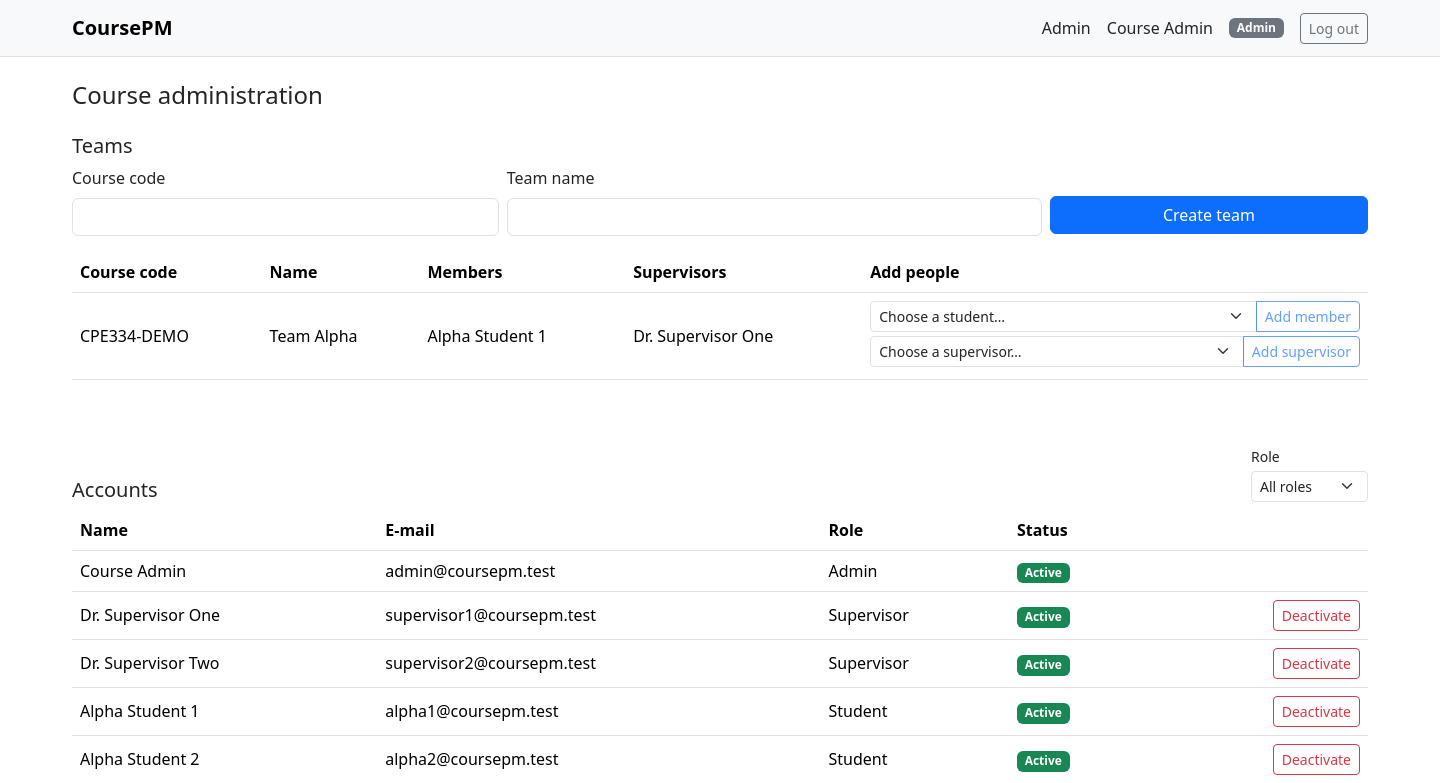
Test: TEST-UI-09 (AC-09-11): Teams section › New team: a 201 adds the team to the table and clears the form
Step 1. Type "CPE334-DEMO" into the field labelled "Course code" → {"x": 285, "y": 217}, box [72,198,499,236]
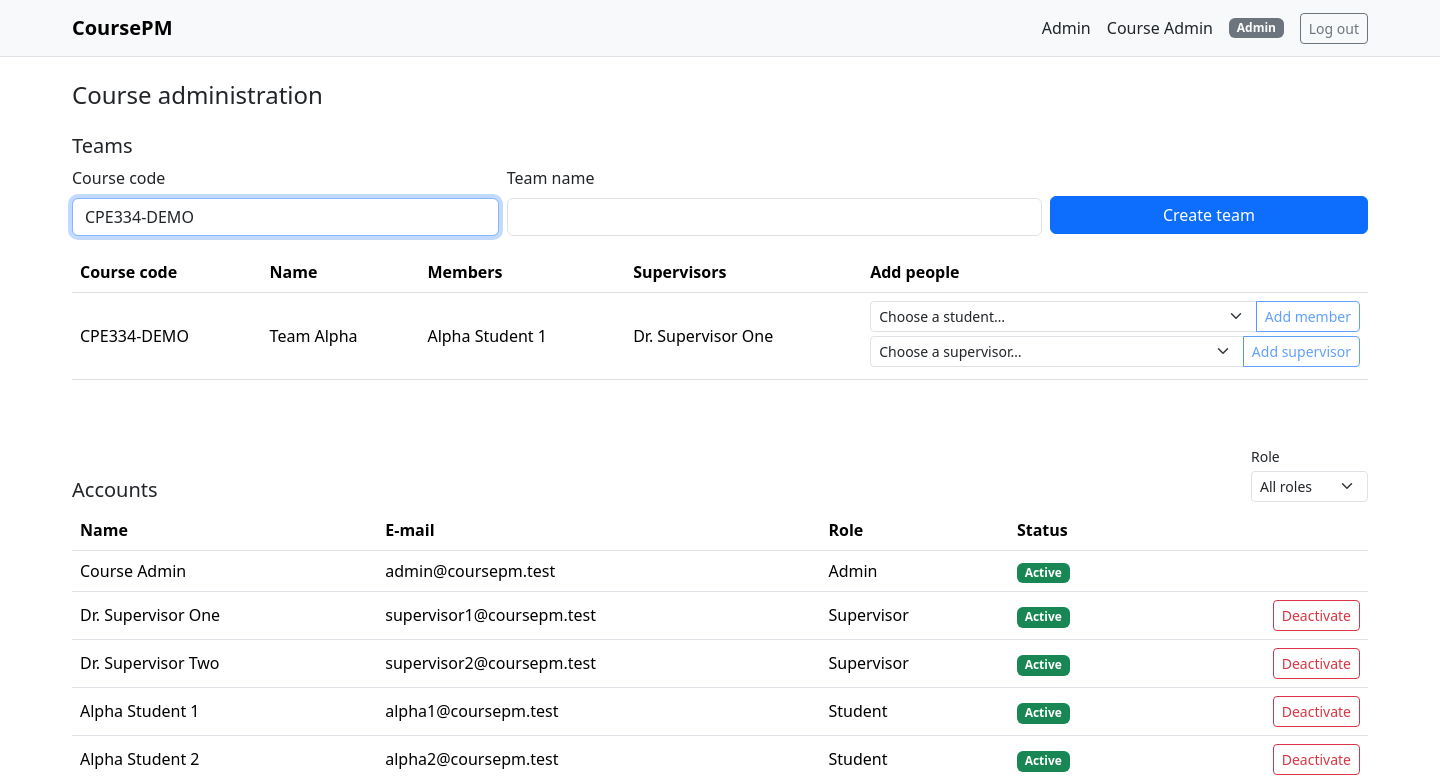
Step 2. Type "Team Delta" into the field labelled "Team name" → {"x": 774, "y": 217}, box [507,198,1042,236]
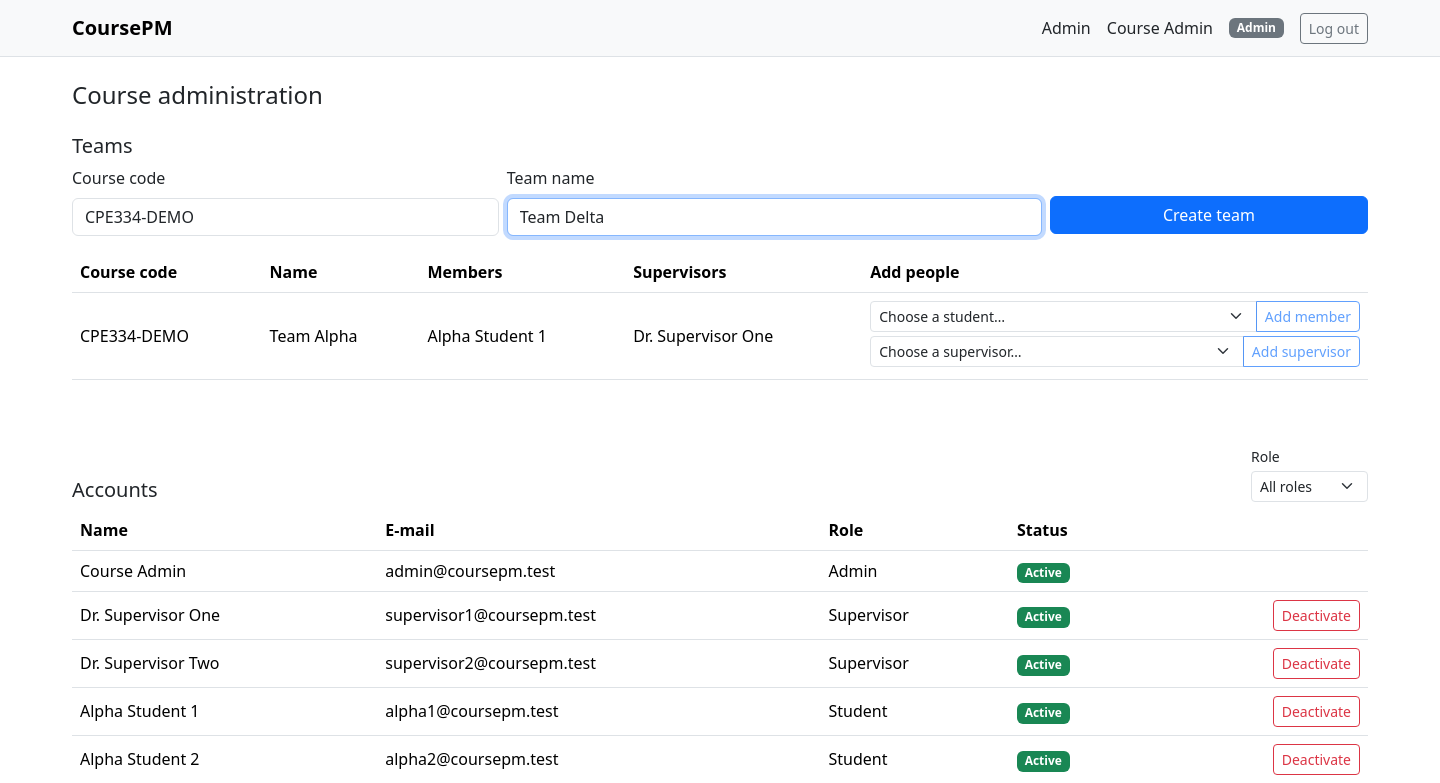
Step 3. Click the button "Create team" → {"x": 1209, "y": 215}, box [1050,196,1368,234]
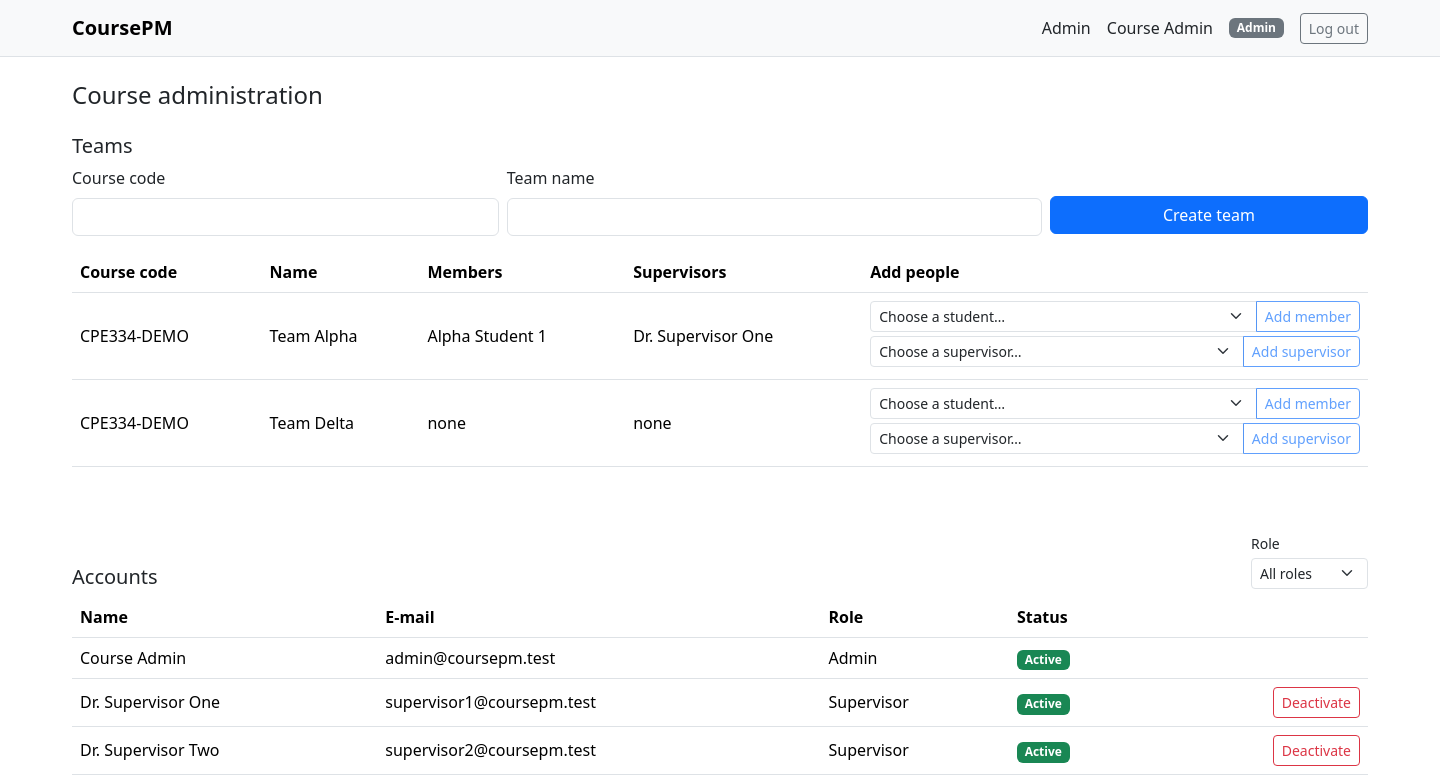
expect the text "Team Delta" is shown: met, box [262,379,419,466]
expect the field labelled "Team name" is empty: met, box [507,198,1042,236]
